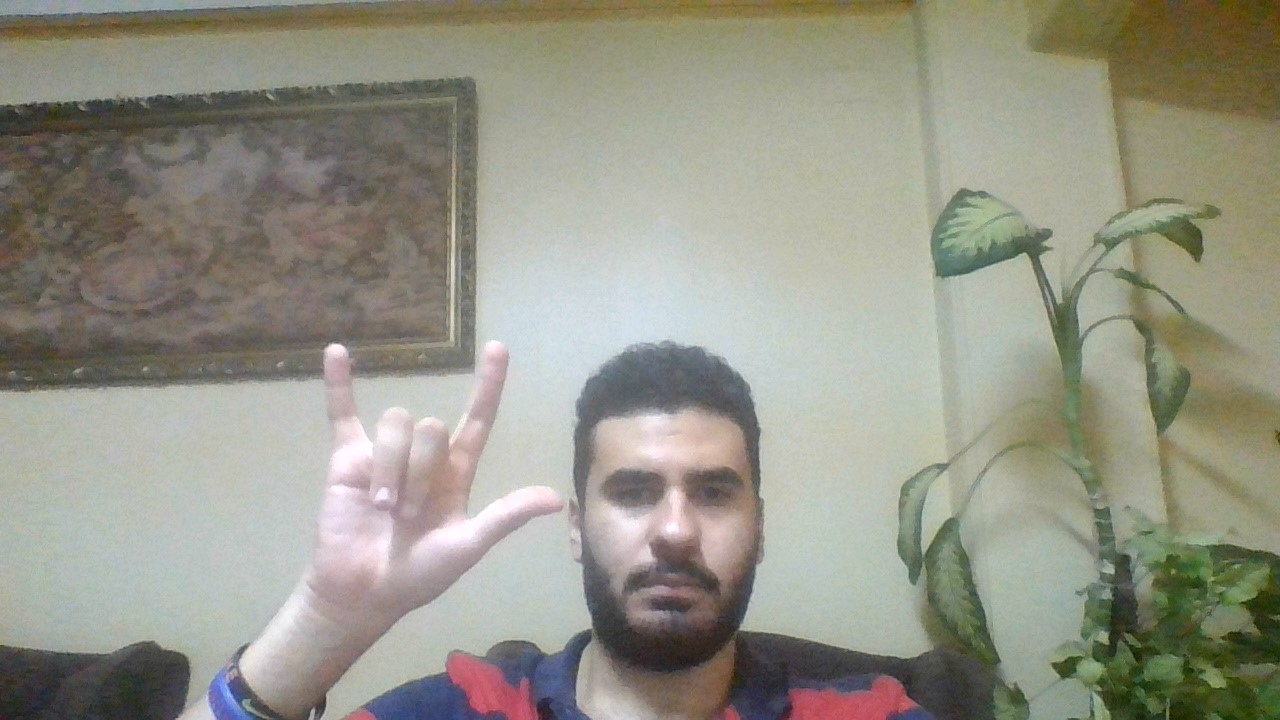love: (294, 325, 561, 614)
